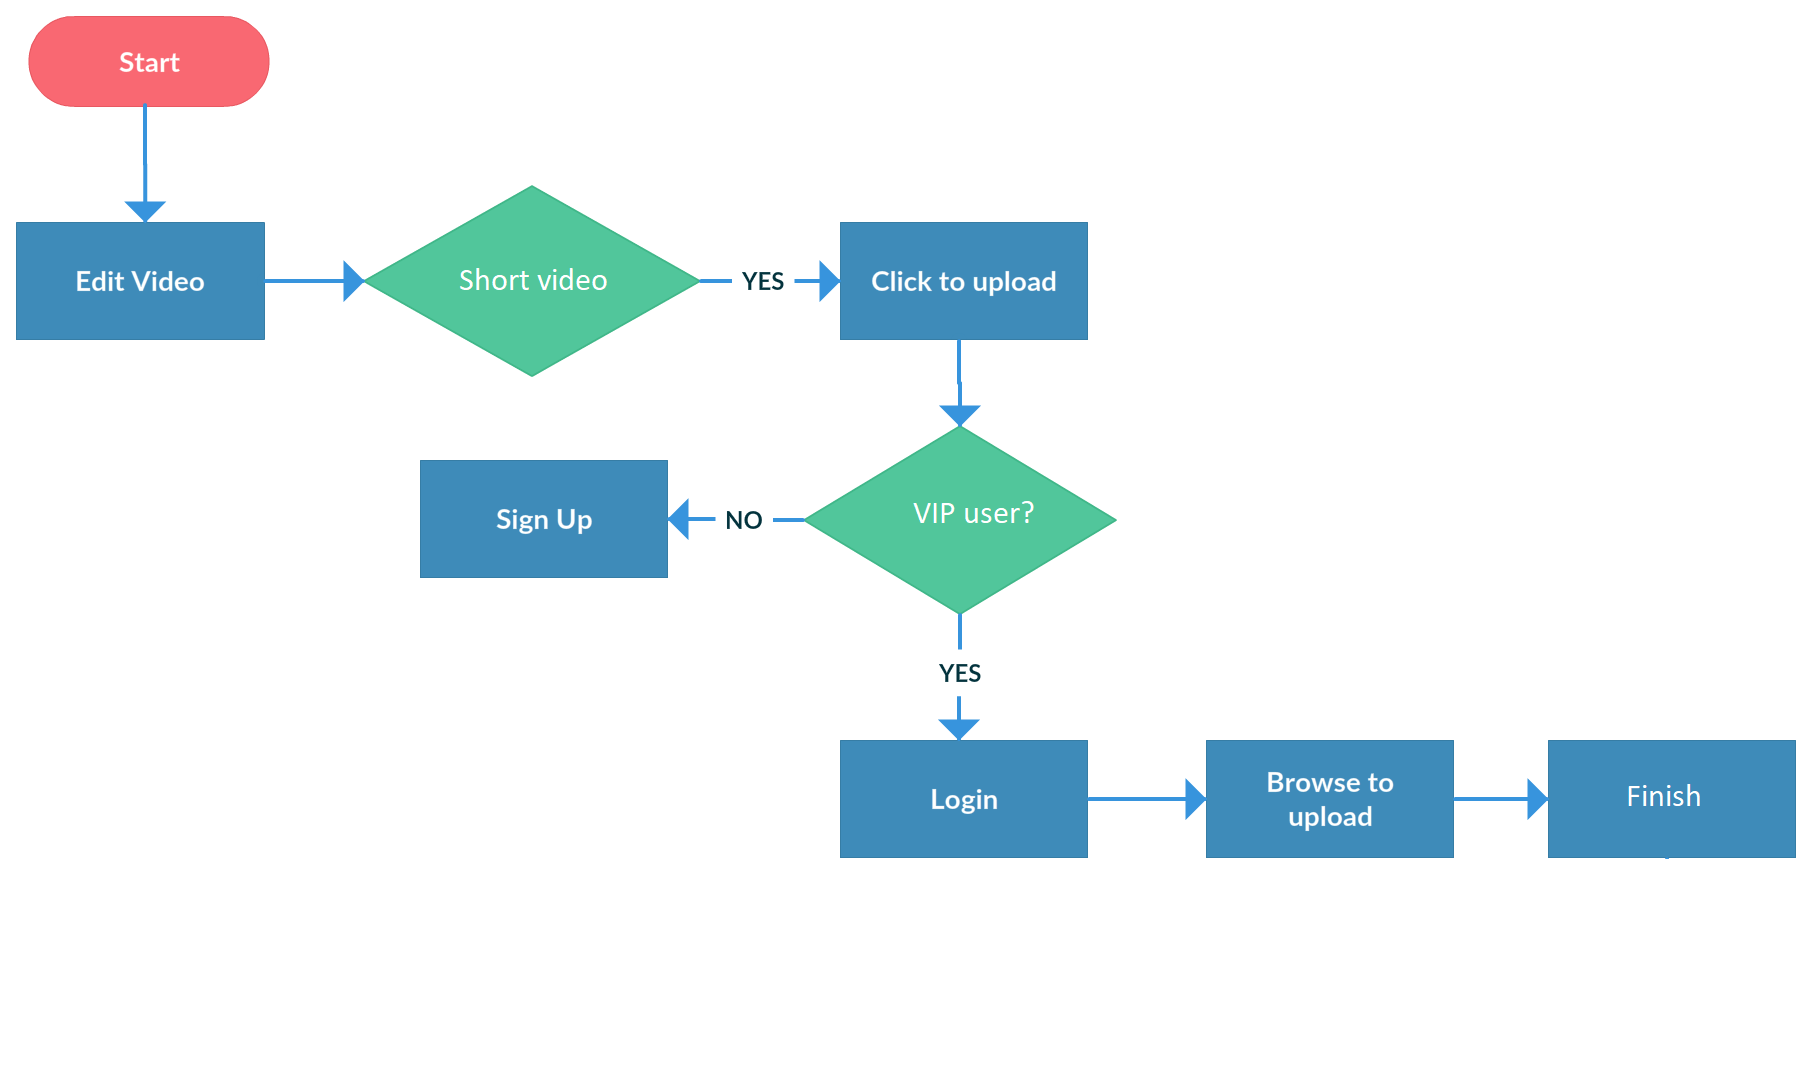arrow: (662, 496, 810, 539), (119, 103, 170, 227), (697, 258, 839, 301), (935, 611, 980, 743), (1080, 774, 1206, 818), (261, 258, 367, 303), (935, 336, 983, 429), (1453, 778, 1550, 819)
decision: (359, 186, 708, 383), (801, 422, 1121, 616)
process: (8, 212, 269, 345), (1543, 734, 1803, 865), (835, 734, 1097, 861), (418, 456, 677, 582), (1203, 736, 1459, 861)
terminator: (26, 10, 275, 112)
text: (1263, 766, 1401, 832), (868, 261, 1063, 303), (453, 259, 617, 298), (72, 263, 206, 296), (488, 499, 599, 539), (908, 496, 1037, 528), (1619, 779, 1708, 812), (928, 786, 1003, 819), (115, 45, 185, 79), (737, 261, 791, 294), (932, 658, 986, 687), (716, 507, 770, 536)
